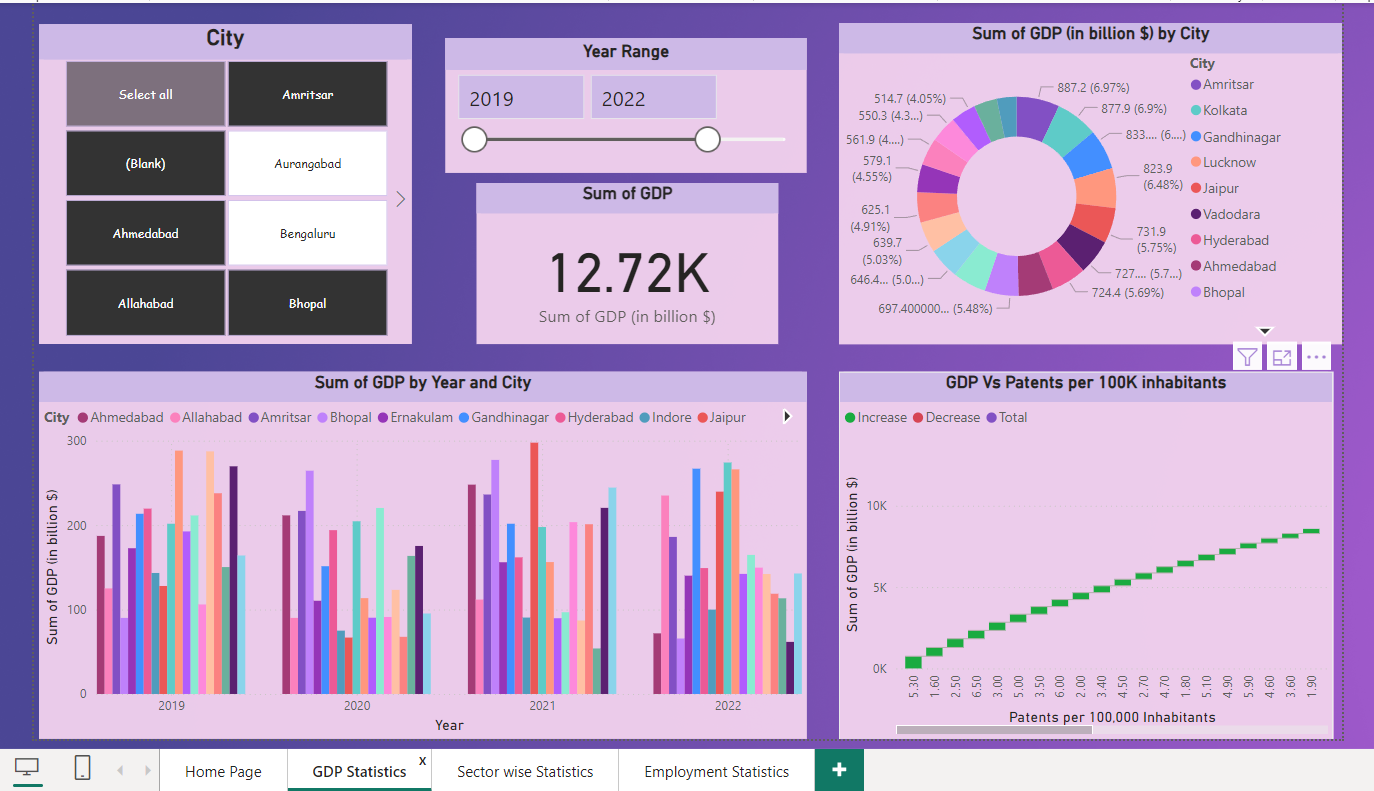

What the dashboard file says about the page in this screenshot:
{"tool":"powerbi","page":{"name":"GDP Statistics","canvas":[1280,720],"ordinal":1},"visuals":[{"type":"clusteredColumnChart","title":"Sum of GDP by Year and City","fields":{"Category":["Sheet1.Year"],"Series":["Sheet1.City"],"Y":["Sum(Sheet1.GDP (in billion $))"]},"box":[5.3,360.5,751.5,359.2],"z":0},{"type":"donutChart","fields":{"Y":["Sum(Sheet1.GDP (in billion $))"],"Category":["Sheet1.City"]},"box":[787.2,19.9,493,314.1],"z":1000},{"type":"slicer","title":"City","fields":{"Values":["Sheet1.City"]},"box":[5,21.2,365,312.5],"z":2000},{"type":"slicer","title":"Year Range","fields":{"Values":["Sheet1.Year"]},"box":[402.9,34.5,353.9,132],"z":3000},{"type":"waterfallChart","title":"GDP Vs Patents per 100K inhabitants","fields":{"Y":["Sum(Sheet1.GDP (in billion $))"],"Category":["Sheet1.Patents per 100,000 Inhabitants"]},"box":[787.2,360.5,483.7,359.2],"z":4000},{"type":"card","title":"Sum of GDP","fields":{"Values":["Sum(Sheet1.GDP (in billion $))"]},"box":[433.4,176.3,295.5,157.7],"z":5000}]}

Visuals, with their boxes in screenshot pixels (x1, y1, x2, y2):
"Sum of GDP by Year and City" clusteredColumnChart: [38, 368, 805, 735]
donutChart - Sum(Sheet1.GDP (in billion $)) x Sheet1.City: [836, 20, 1339, 341]
"City" slicer: [37, 22, 410, 341]
"Year Range" slicer: [444, 35, 805, 170]
"GDP Vs Patents per 100K inhabitants" waterfallChart: [836, 368, 1330, 735]
"Sum of GDP" card: [475, 180, 776, 341]
